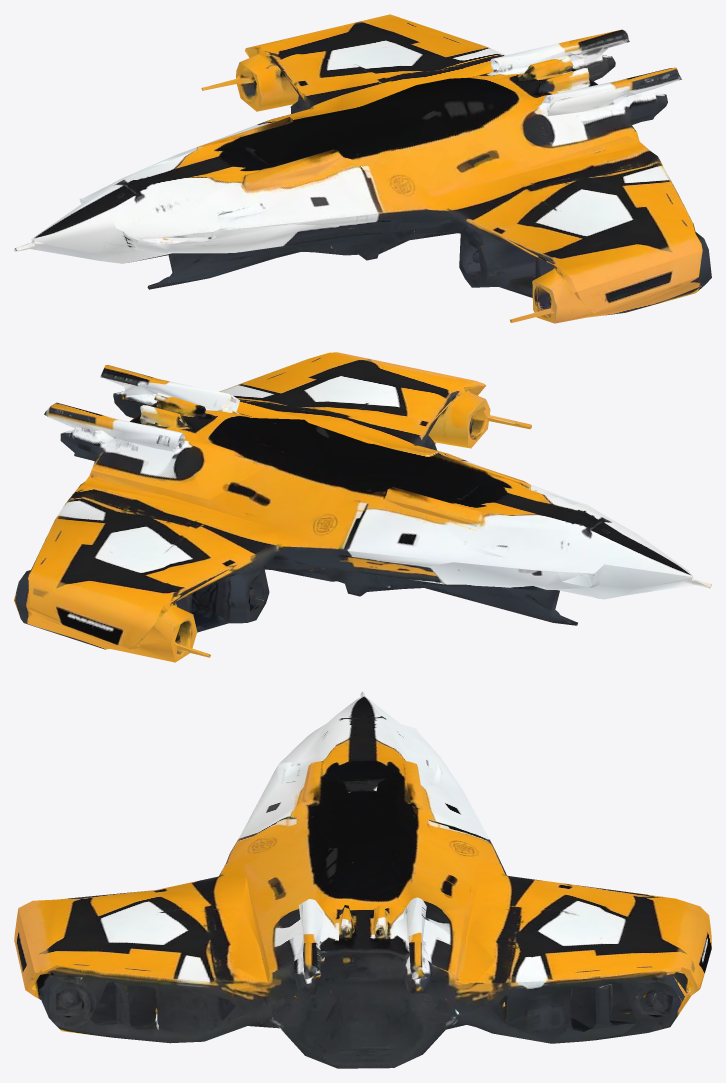
File: ship19.glb
3 renders of one model, top to bottom at view 1: azimuth 30°, elevation 25°; view 2: azimuth 150°, elevation 25°; view 3: azimuth 270°, elevation 25°, orthographic. The views are drawn at different scales.
Parts seen in each view (by area): view 1: Mesh0; view 2: Mesh0; view 3: Mesh0.
Part boxes in pixels (bbox=[...]): Mesh0: bbox=[14, 14, 711, 323]; Mesh0: bbox=[14, 352, 711, 662]; Mesh0: bbox=[14, 691, 711, 1068].
Size of the model in its own units: 1.91 by 0.4054 by 1.75.
1 material, 1 textured.
